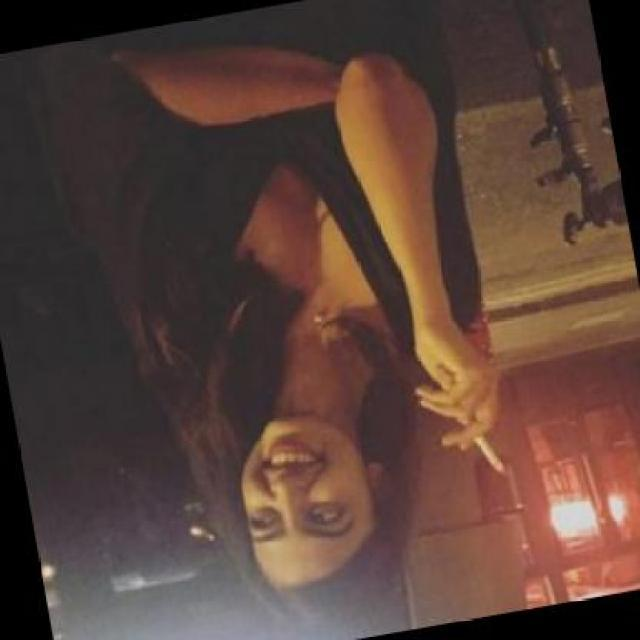smoke: (405, 320, 506, 480)
